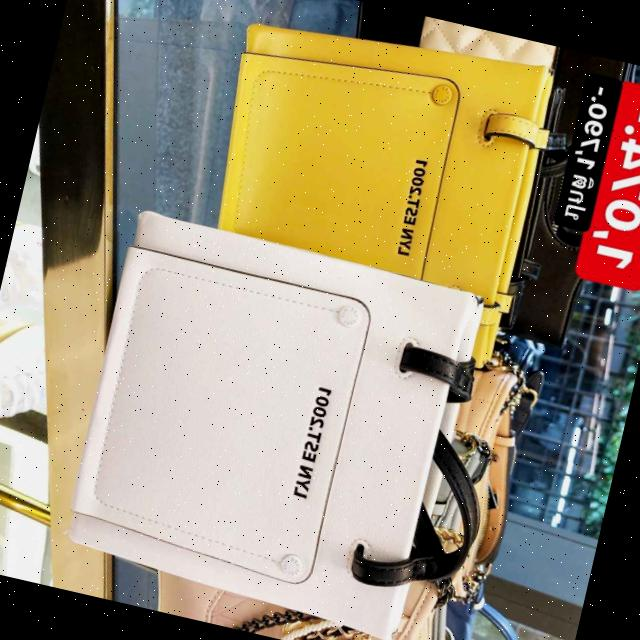Handbag: (32, 201, 537, 640)
